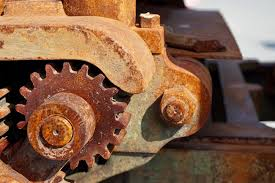rust: (16, 62, 126, 168), (155, 41, 210, 88), (159, 88, 197, 128)
